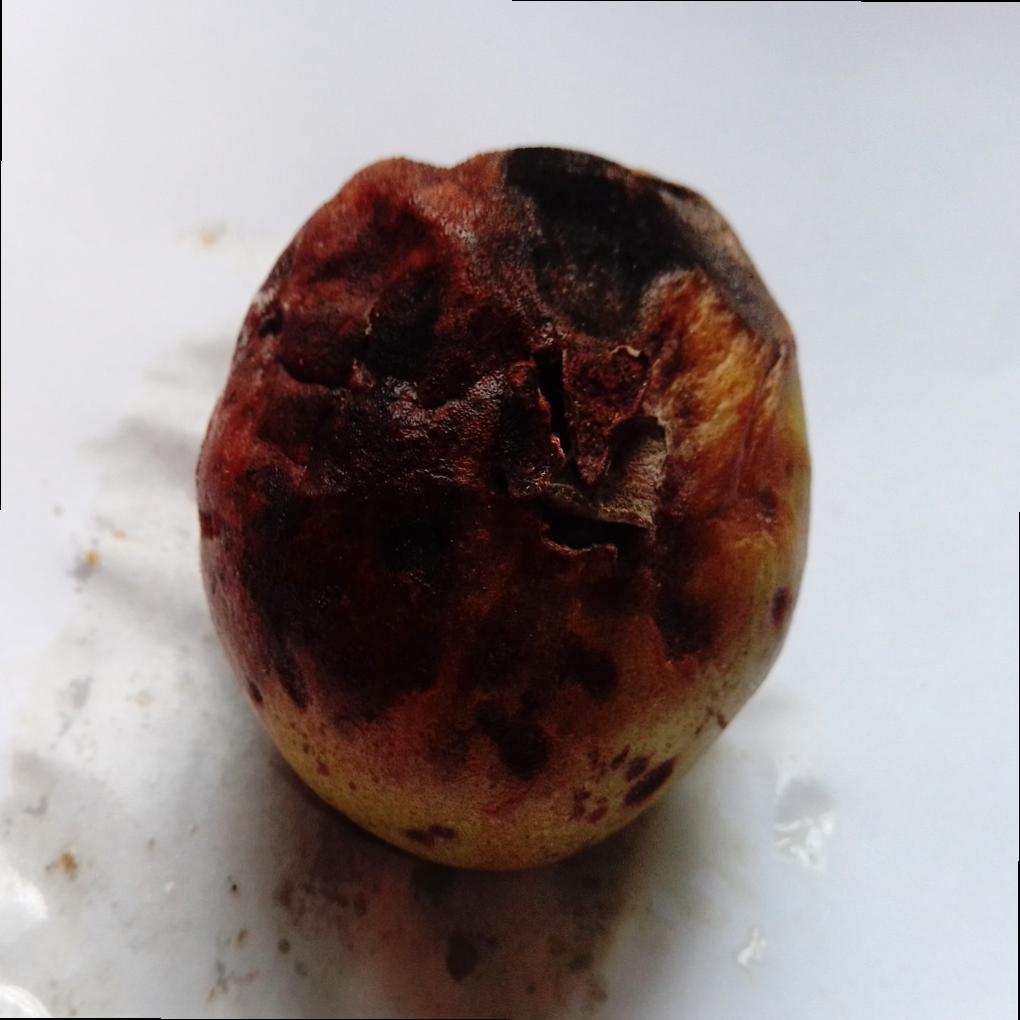FreshOrange: (193, 146, 814, 878)
